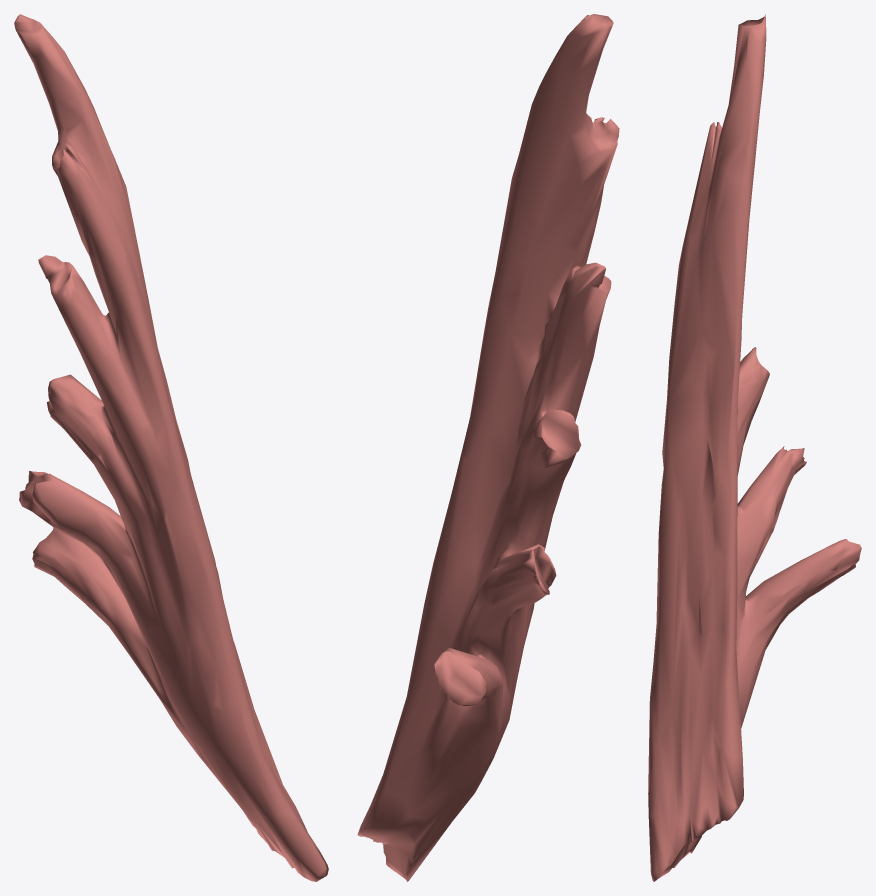
The picture shows the model from 3 angles, left to right: view 1: azimuth 30°, elevation 25°; view 2: azimuth 150°, elevation 25°; view 3: azimuth 270°, elevation 25°; orthographic projection. The views are drawn at different scales.
Visible parts, largest first — view 1: ZA_40ff348acfed8920; view 2: ZA_40ff348acfed8920; view 3: ZA_40ff348acfed8920.
Part boxes in pixels (x1=…): ZA_40ff348acfed8920: x1=14, y1=14, x2=328, y2=881; ZA_40ff348acfed8920: x1=357, y1=14, x2=619, y2=881; ZA_40ff348acfed8920: x1=648, y1=14, x2=861, y2=881.
Bounding box in the file's own units: 0.0302 × 0.0992 × 0.025.
